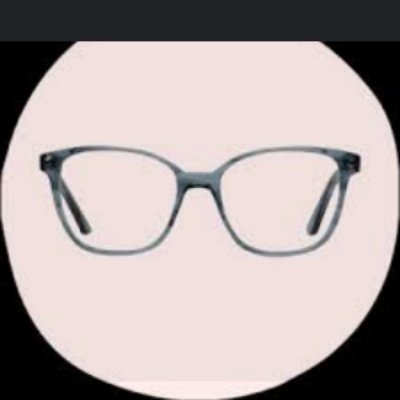glasses: (34, 141, 365, 263)
